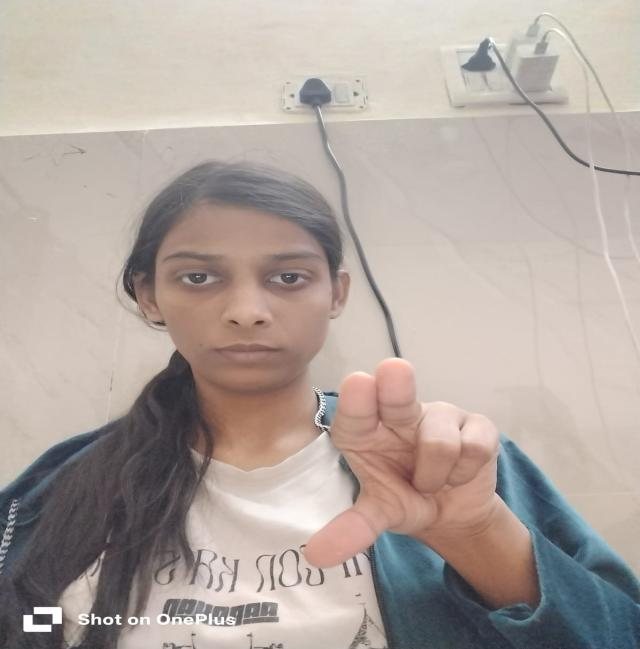No: (293, 352, 528, 580)
